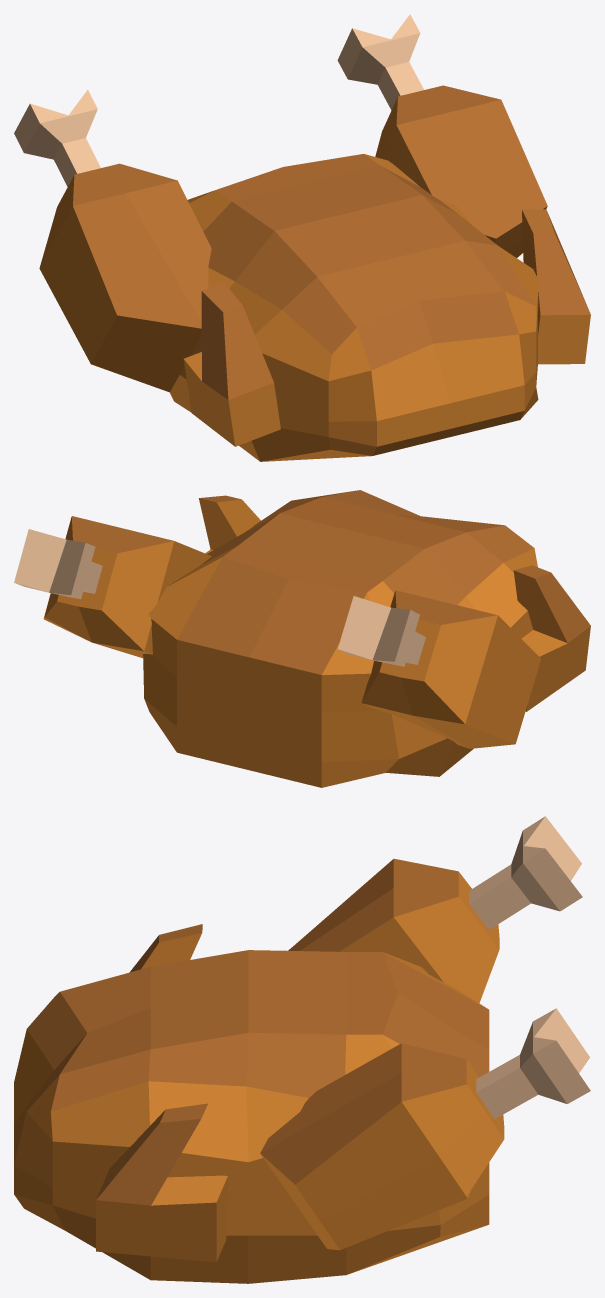
File: chicken.fbx
3 views of the same model, one above another, from view 1: azimuth 30°, elevation 25°; view 2: azimuth 150°, elevation 25°; view 3: azimuth 270°, elevation 25° (orthographic). The views are drawn at different scales.
Parts seen in each view (by area): view 1: chicken; view 2: chicken; view 3: chicken.
Boxes of the visible parts, x1,y1,x2,y2 form: chicken: [14, 14, 590, 461]; chicken: [14, 490, 590, 787]; chicken: [14, 816, 590, 1283].
Bounding box in the file's own units: 68.57 × 38.25 × 69.22.
